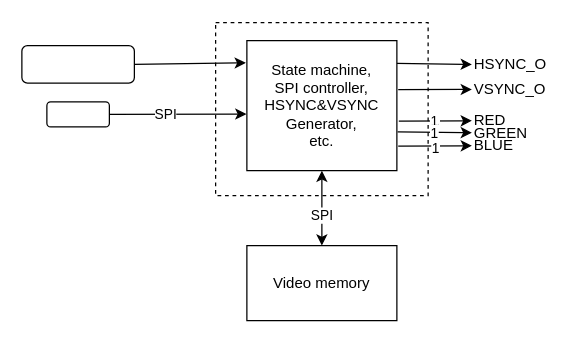
The diagram is 581 pixels wide and 343 high, and some of its shapes have lost their labels. The box of each missing label's shape, as (x1, y1, x2, y2) in pixels:
40MHz Clock: (21, 44, 134, 83)
DATA in: (46, 101, 109, 127)
